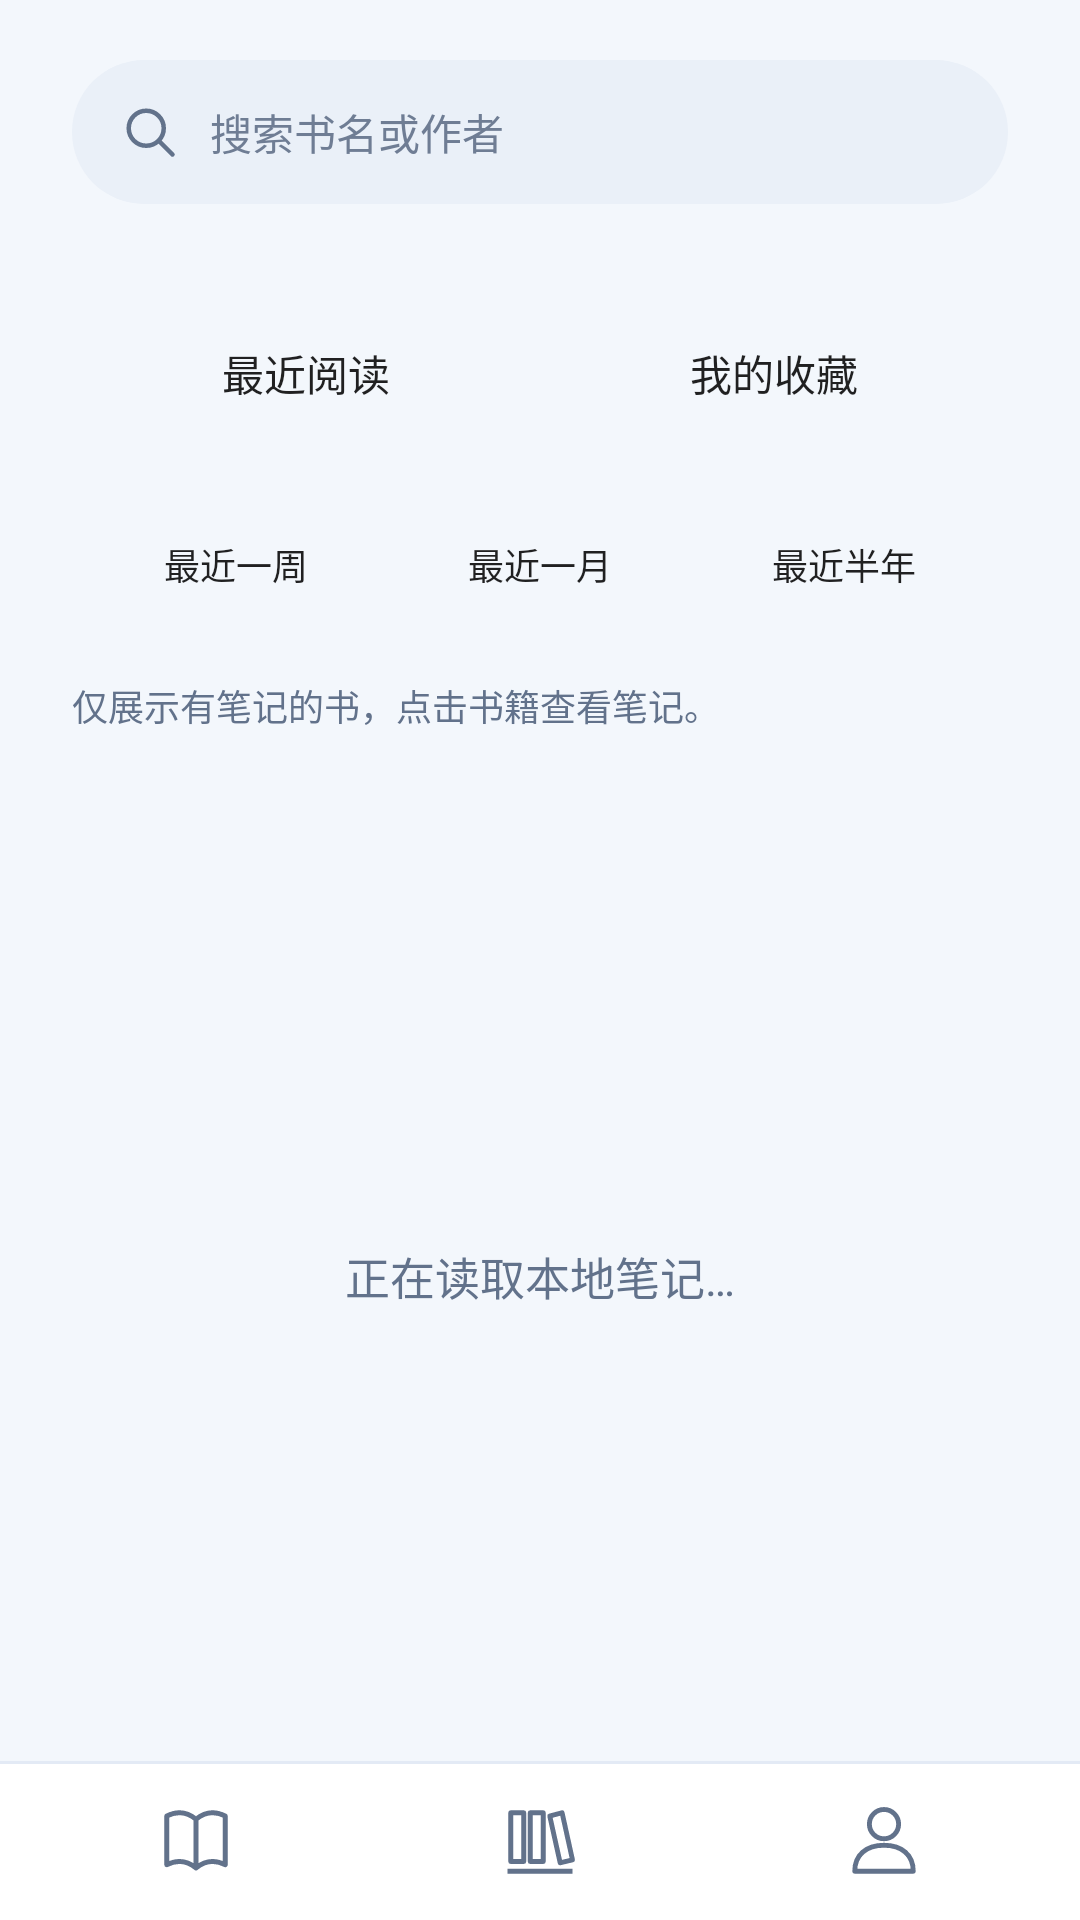

Named icons in this screenshot (1080w x 1920h) and their bounding boxes, rect(x1, y1, x2, y2):
search: rect(126, 108, 175, 157)
shelf: rect(507, 1810, 575, 1874)
